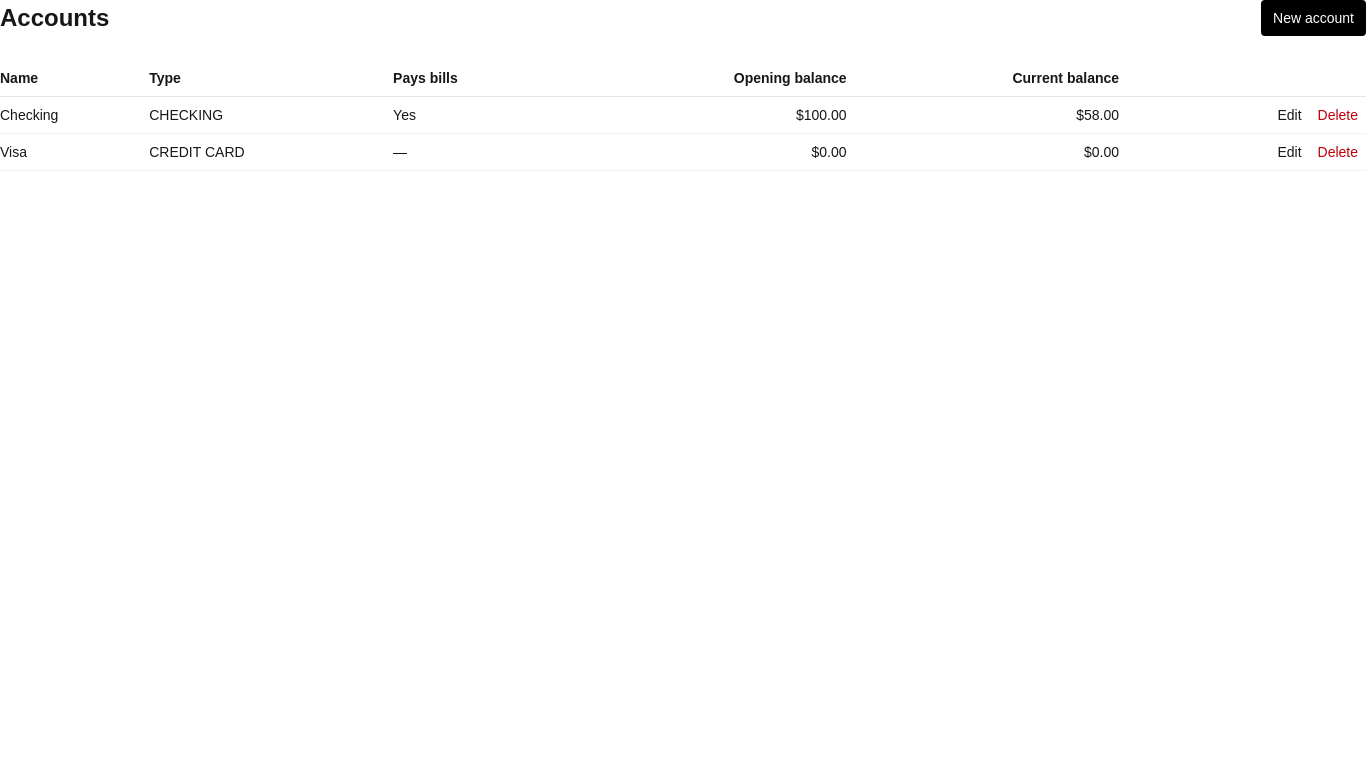
it: AccountsPage › renders the 409 server message in the delete confirm dialog
Expected: the row "Checking CHECKING Yes $100.00 $58.00 Edit Delete" is shown, [0,96,1365,134]
Step 1. Click the button named "Delete Checking" → (1338, 115), box [1310,105,1365,125]
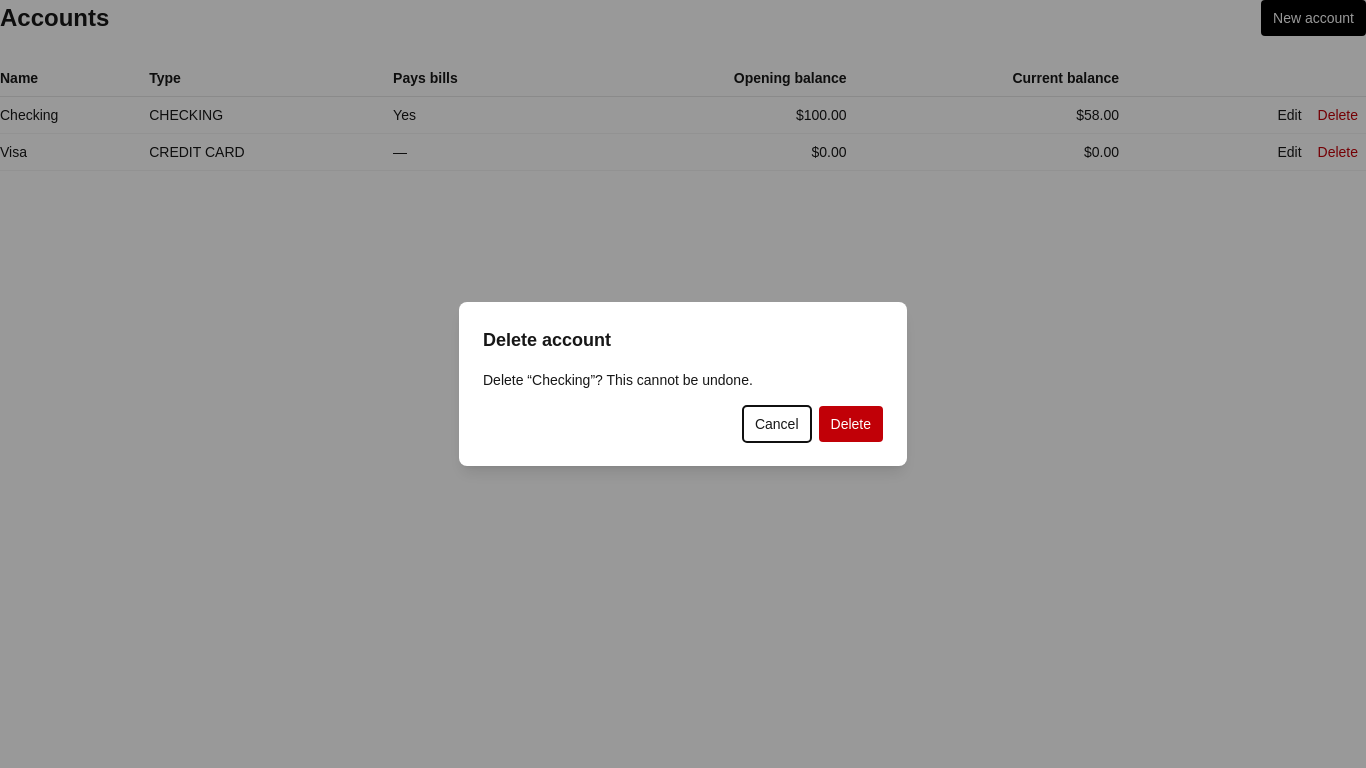
Step 2. Click the button "Delete" → (851, 424), box [818,406,883,442]
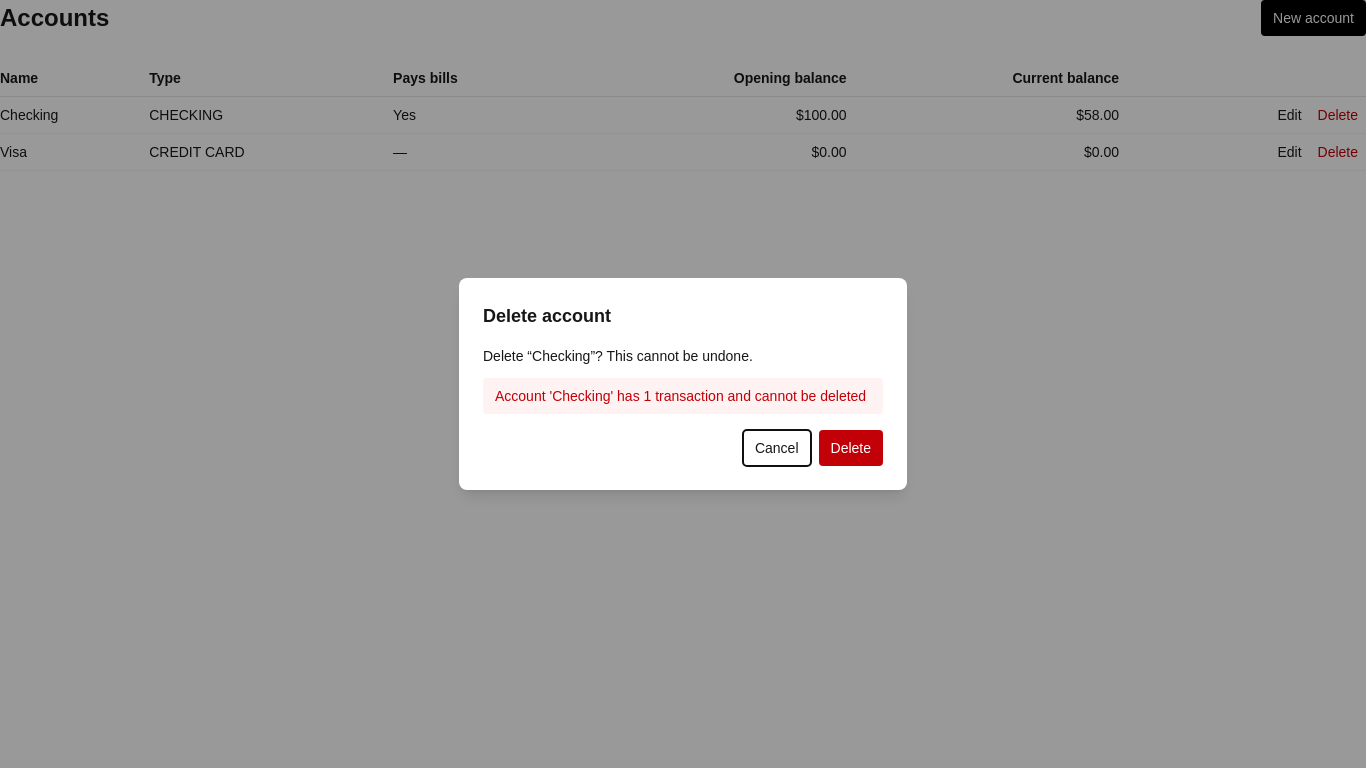
Result: the dialog "Delete account" is shown at [459,278,907,490]
Result: the text "Account 'Checking' has 1 transaction and cannot be deleted" is shown at [483,378,883,414]
